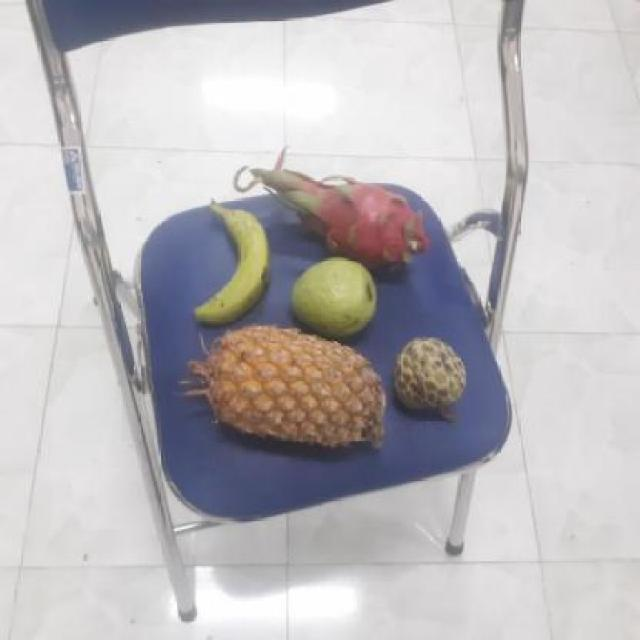banana: (189, 204, 271, 325)
dragon fruit: (270, 175, 421, 274)
guava: (285, 256, 381, 341)
pineapple: (197, 327, 383, 453)
sugar apple: (388, 338, 467, 418)
